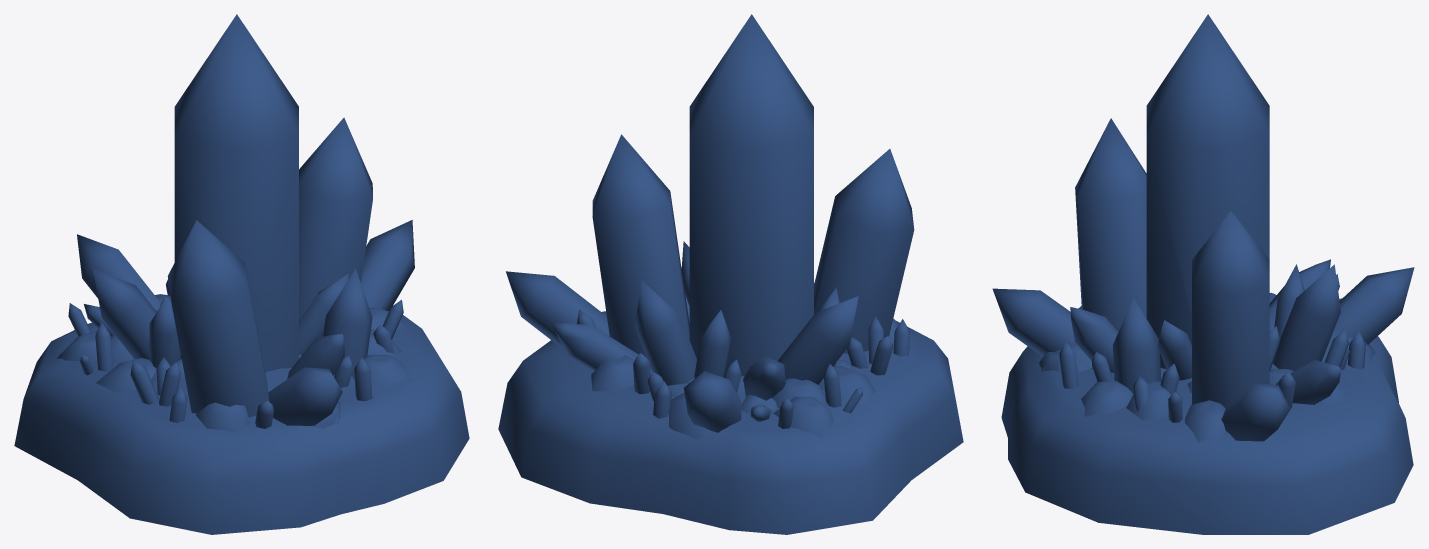
The model's file is Crystal_Decor_01.fbx.
3 views of the same model, side by side, from view 1: azimuth 30°, elevation 25°; view 2: azimuth 150°, elevation 25°; view 3: azimuth 270°, elevation 25° (orthographic).
Parts seen in each view (by area): view 1: Crystal_Decor_01; view 2: Crystal_Decor_01; view 3: Crystal_Decor_01.
Boxes of the visible parts, x1,y1,x2,y2 form: Crystal_Decor_01: [14, 14, 469, 534]; Crystal_Decor_01: [498, 14, 963, 534]; Crystal_Decor_01: [992, 14, 1414, 534].
Size of the model in its own units: 0.6008 by 0.6412 by 0.5798.
